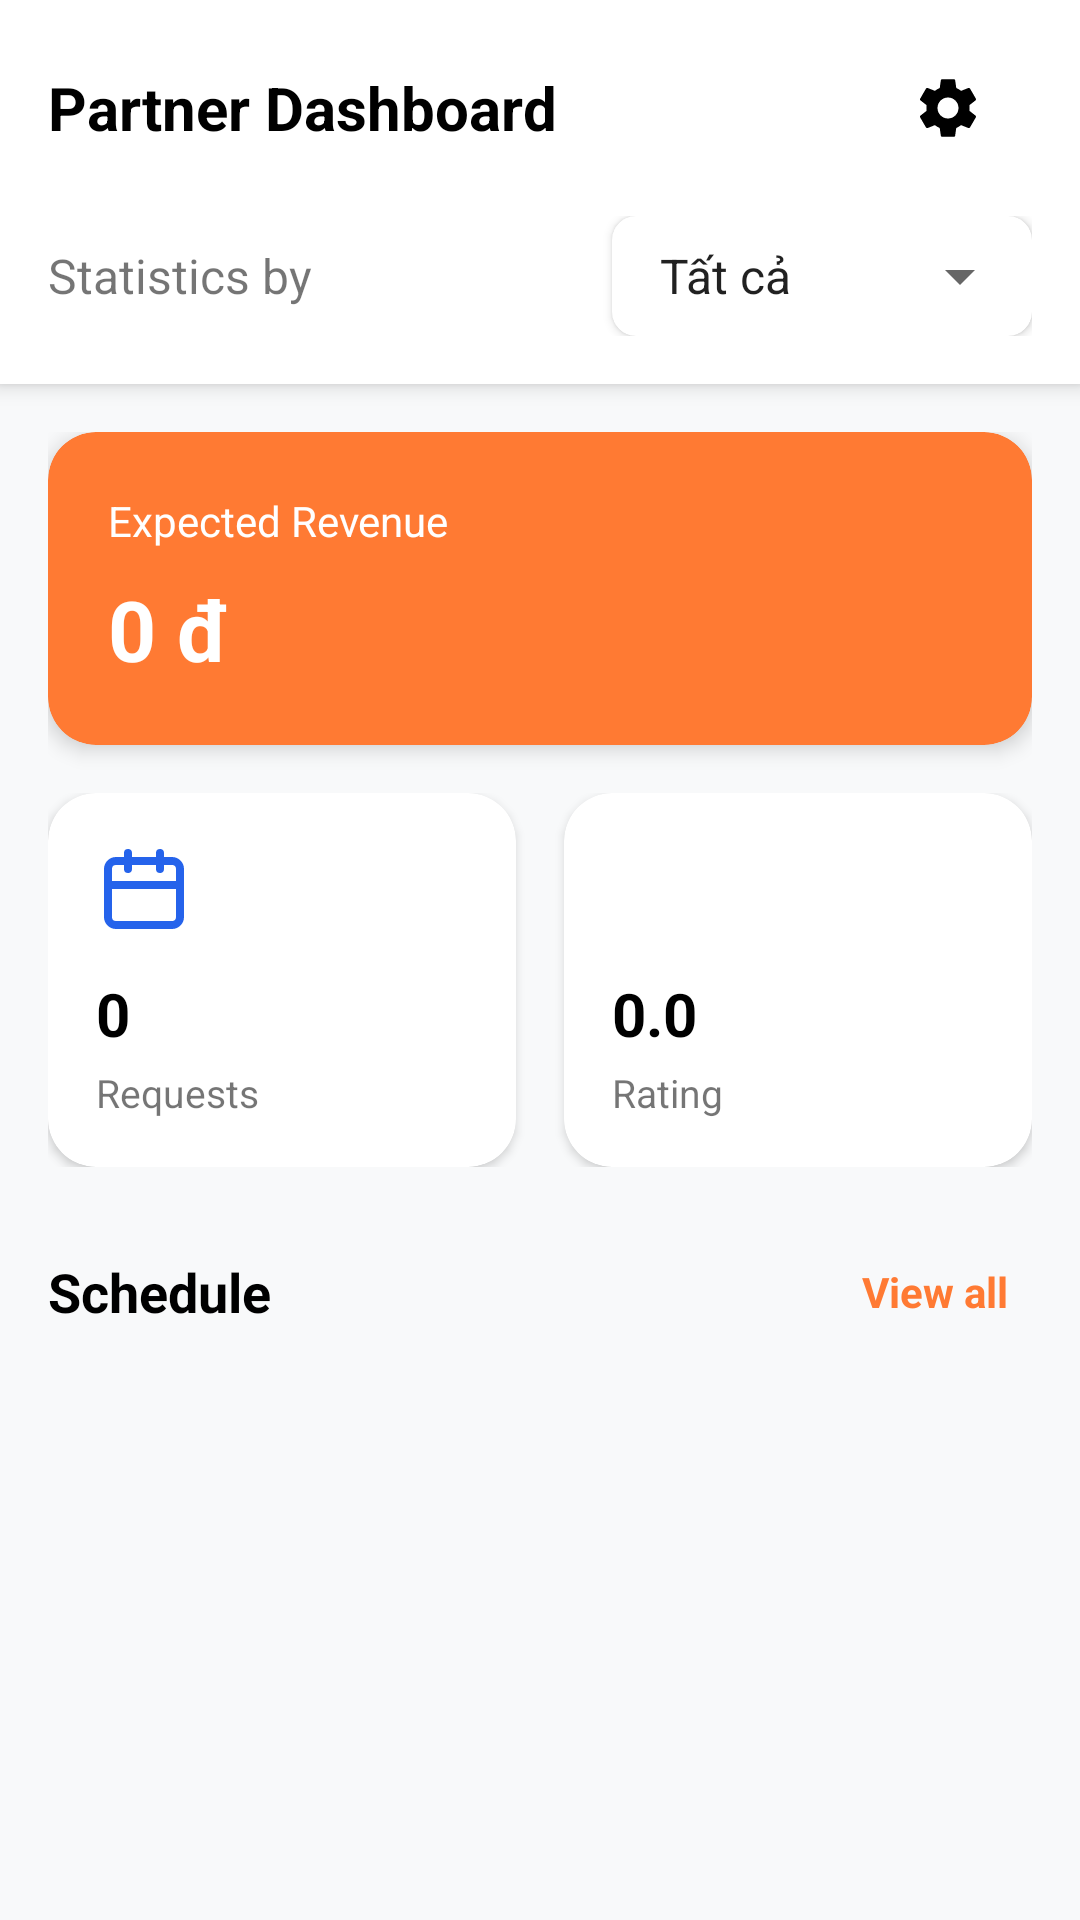

Icons on this 1080px×1920px Android screen, each with the point to tap as (x,y):
calender: (144,889)
Settings: (948,108)
